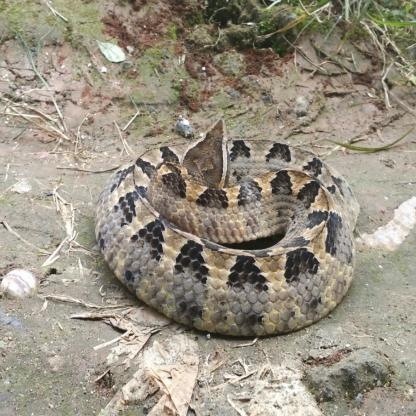Snake: (94, 114, 362, 338)
